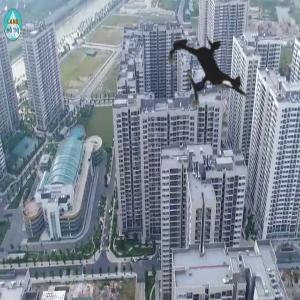drone: (137, 3, 276, 142)
